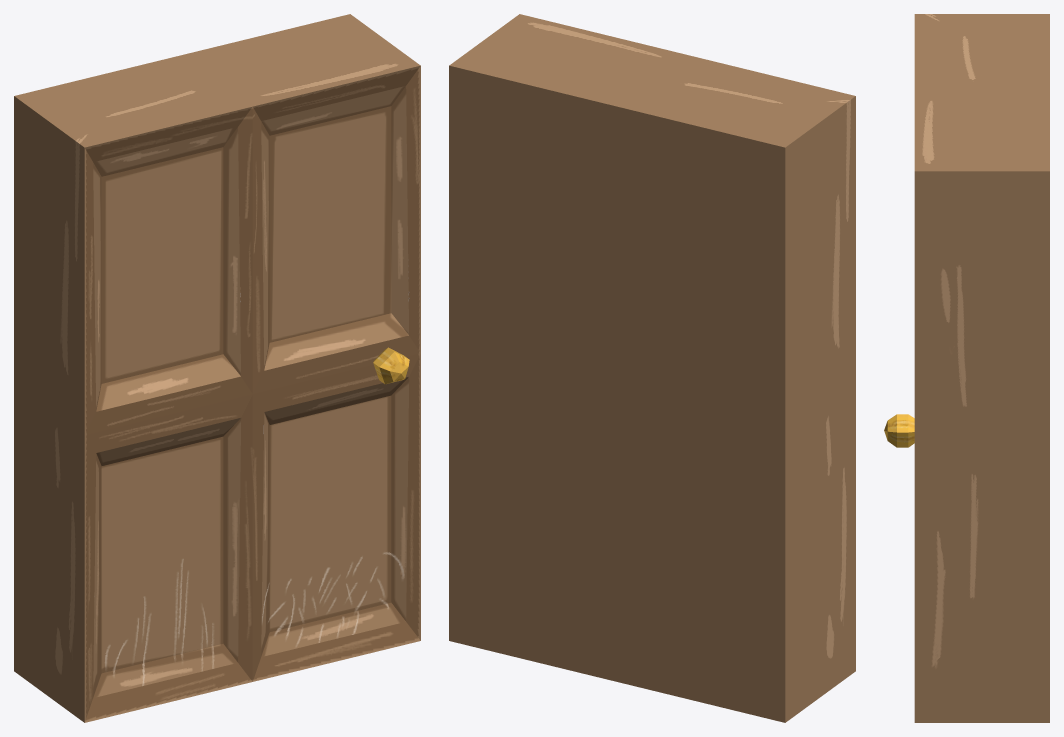
File: Obj_Door.fbx
3 views of the same model, side by side, from view 1: azimuth 30°, elevation 25°; view 2: azimuth 150°, elevation 25°; view 3: azimuth 270°, elevation 25° (orthographic). The views are drawn at different scales.
Parts seen in each view (by area): view 1: Cube; view 2: Cube; view 3: Cube.
Boxes of the visible parts, left/top/right/bottom form: Cube: left=14, top=14, right=420, bottom=722; Cube: left=449, top=14, right=855, bottom=722; Cube: left=884, top=14, right=1049, bottom=722.
Size of the model in its own units: 400 by 654 by 178.
